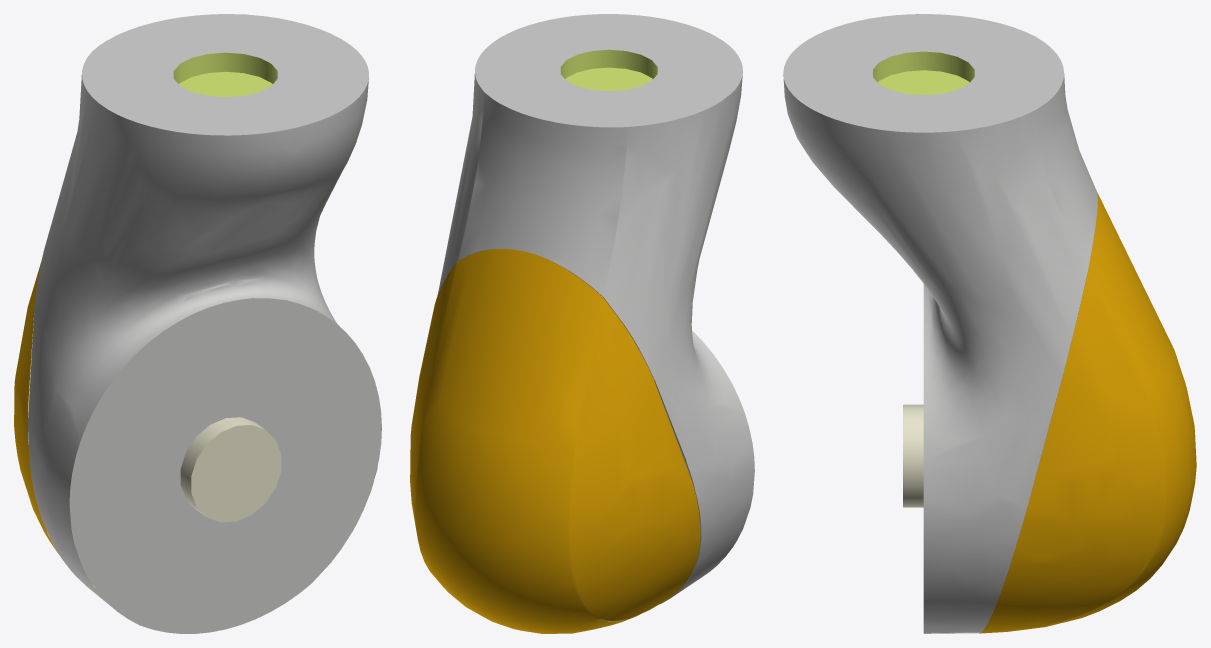
The model's file is IIWA14_Link2.dae.
3 renders of one model, left to right at view 1: azimuth 30°, elevation 25°; view 2: azimuth 150°, elevation 25°; view 3: azimuth 270°, elevation 25°, orthographic. The views are drawn at different scales.
Parts seen in each view (by area): view 1: MeshFeature3_005; view 2: MeshFeature3_005; view 3: MeshFeature3_005.
Part boxes in pixels (<box>): MeshFeature3_005: <box>14,14,381,633</box>; MeshFeature3_005: <box>410,14,754,633</box>; MeshFeature3_005: <box>783,14,1196,633</box>.
Size of the model in its own units: 0.171 by 0.2001 by 0.29.
